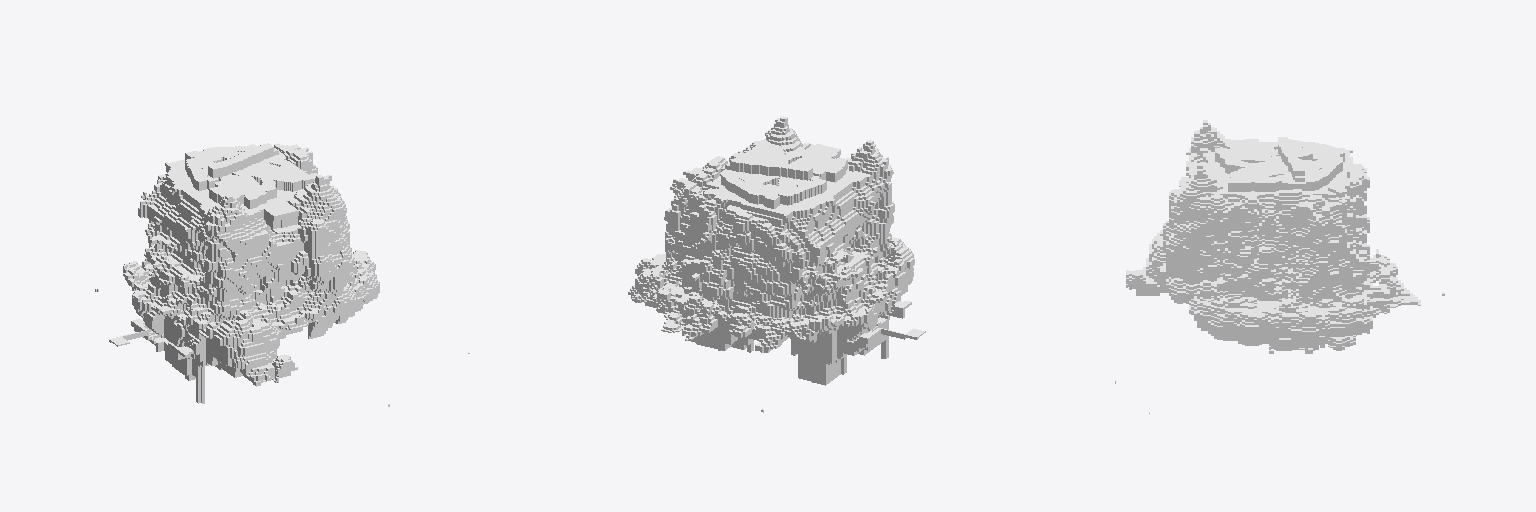
Rendered from Pillar_lava_obj-0.obj.
The picture shows the model from 3 angles: view 1: azimuth 30°, elevation 25°; view 2: azimuth 150°, elevation 25°; view 3: azimuth 270°, elevation 25°; orthographic projection.
Visible parts, largest first — view 1: object 1; view 2: object 1; view 3: object 1.
Part boxes in pixels (x1,y1,x2,y2): object 1: (95,143,469,406); object 1: (628,116,925,412); object 1: (1115,120,1444,413).
Size of the model in its own units: 24.1 by 16 by 23.3.